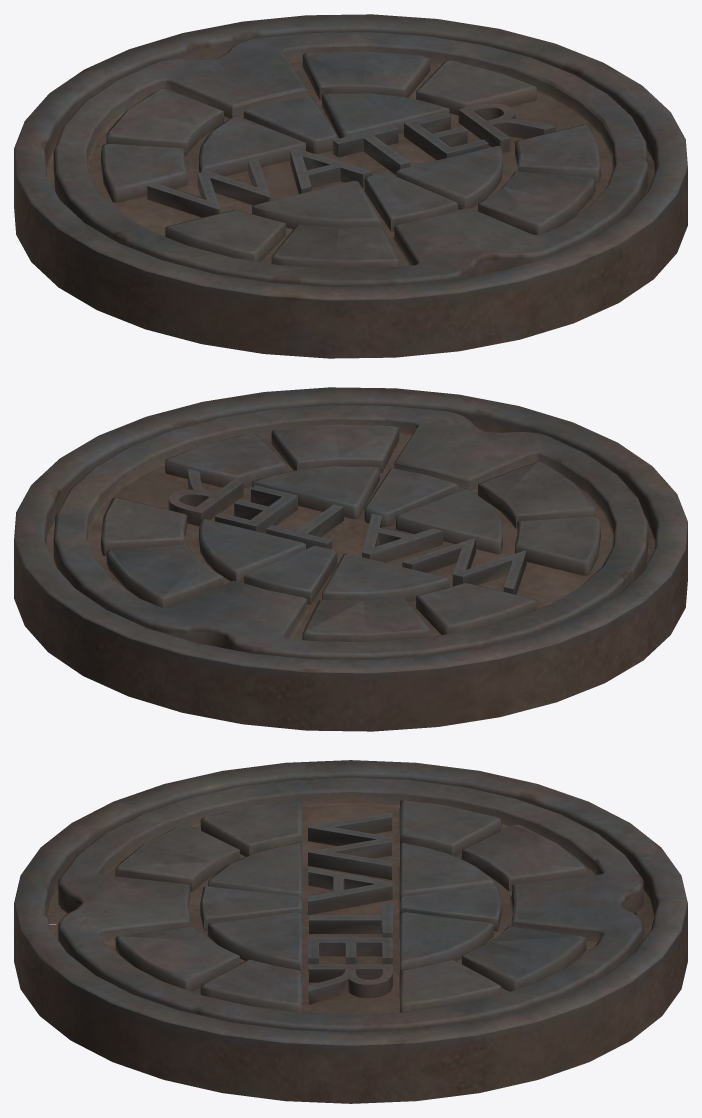
File: ph_manhole_cover.gltf
The picture shows the model from 3 angles, top to bottom: view 1: azimuth 30°, elevation 25°; view 2: azimuth 150°, elevation 25°; view 3: azimuth 270°, elevation 25°; orthographic projection.
Parts seen in each view (by area): view 1: Body; view 2: Body; view 3: Body.
Boxes of the visible parts, x1,y1,x2,y2 form: Body: (14, 14, 687, 358); Body: (14, 387, 687, 731); Body: (14, 760, 687, 1103).
Size of the model in its own units: 0.6908 by 0.0679 by 0.6908.
1 material, 1 textured.
